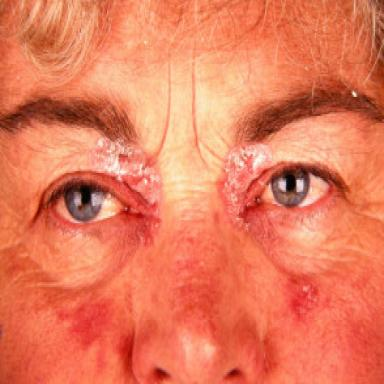eczema: (92, 139, 160, 249), (223, 144, 277, 256)
